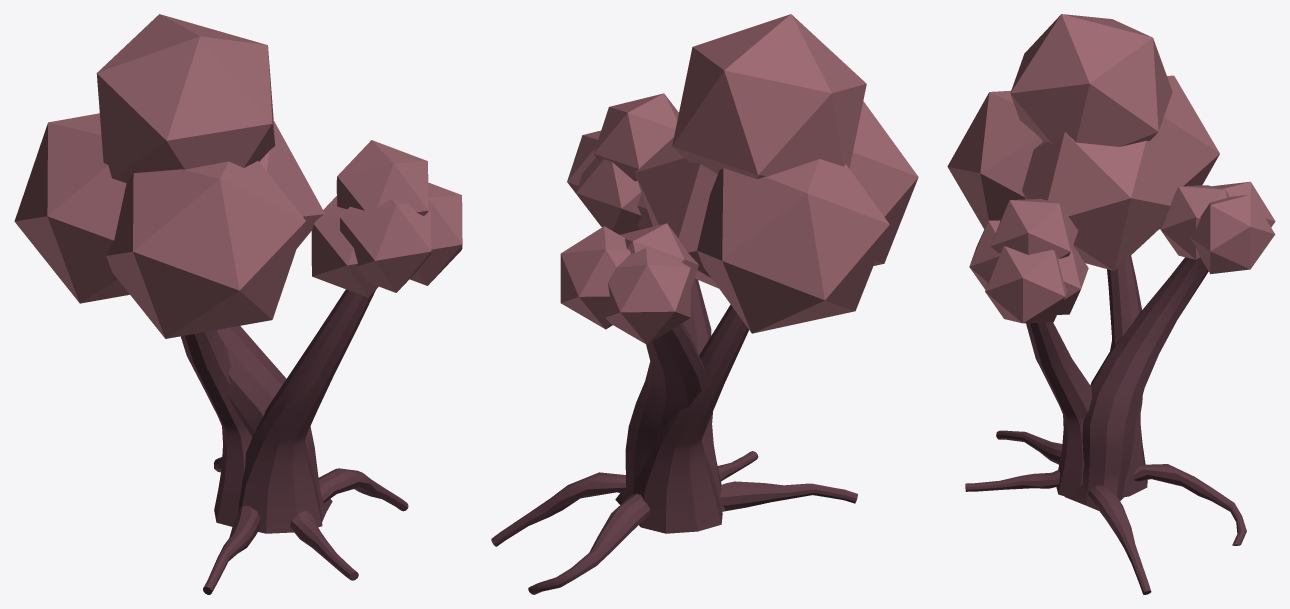
The model's file is Tree_01.fbx.
3 renders of one model, left to right at view 1: azimuth 30°, elevation 25°; view 2: azimuth 150°, elevation 25°; view 3: azimuth 270°, elevation 25°, orthographic. The views are drawn at different scales.
Parts seen in each view (by area): view 1: Tree_Top_01, Tree_Base_01; view 2: Tree_Top_01, Tree_Base_01; view 3: Tree_Top_01, Tree_Base_01.
Part boxes in pixels (box(x1,y1,x2,y2)): Tree_Top_01: box(14, 14, 462, 338); Tree_Base_01: box(180, 289, 408, 594); Tree_Top_01: box(560, 14, 918, 344); Tree_Base_01: box(491, 278, 857, 594); Tree_Top_01: box(947, 14, 1275, 323); Tree_Base_01: box(965, 255, 1246, 594).
Size of the model in its own units: 180 by 256 by 159.
